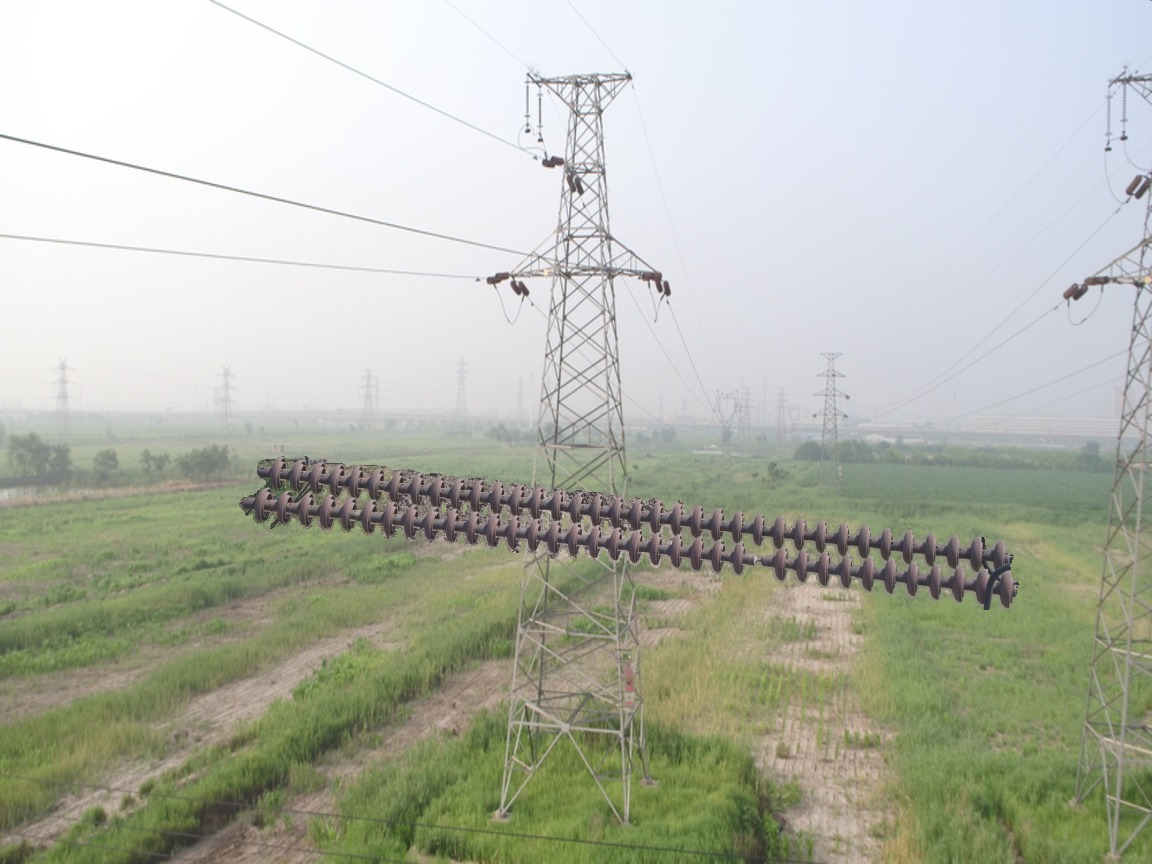defect: (724, 540, 797, 583)
